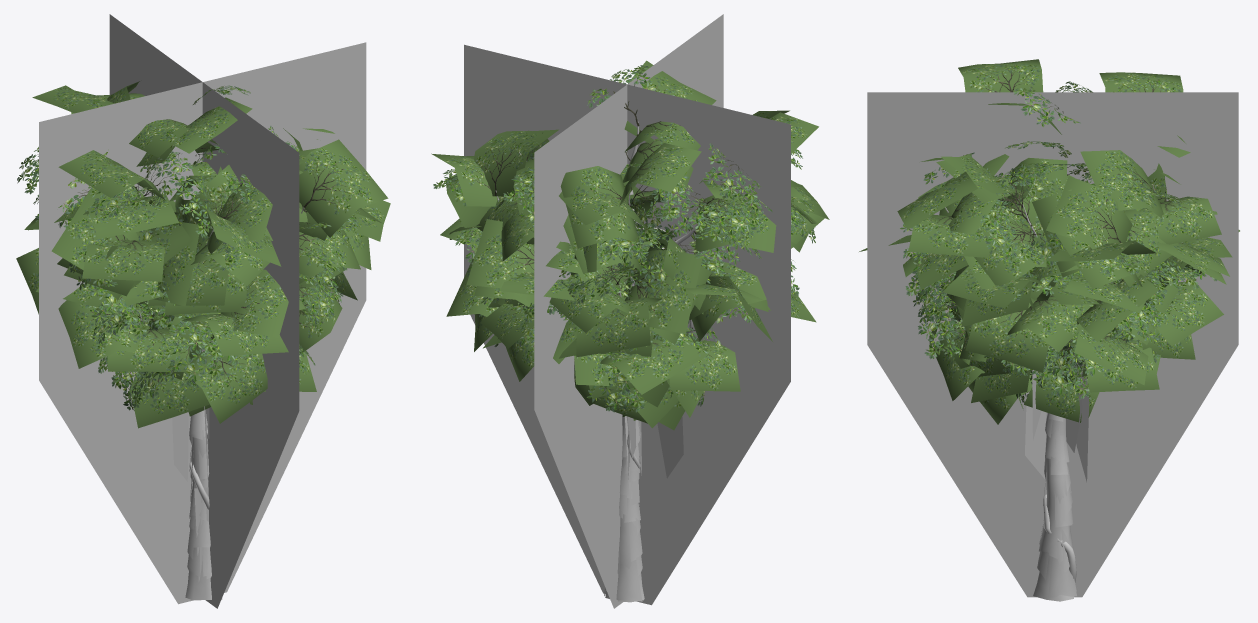
Rendered from Mangrove4_big.fbx.
The picture shows the model from 3 angles, left to right: view 1: azimuth 30°, elevation 25°; view 2: azimuth 150°, elevation 25°; view 3: azimuth 270°, elevation 25°; orthographic projection. The views are drawn at different scales.
Parts seen in each view (by area): view 1: LOD0, Billboard; view 2: LOD0, Billboard; view 3: LOD0, Billboard.
Part boxes in pixels (x1=…): LOD0: x1=16, y1=81, x2=390, y2=600; Billboard: x1=39, y1=14, x2=366, y2=608; LOD0: x1=431, y1=60, x2=829, y2=602; Billboard: x1=464, y1=14, x2=790, y2=608; LOD0: x1=859, y1=59, x2=1239, y2=601; Billboard: x1=867, y1=92, x2=1238, y2=597.
Size of what is drawn, in the model's own units: 686 by 997 by 683.
